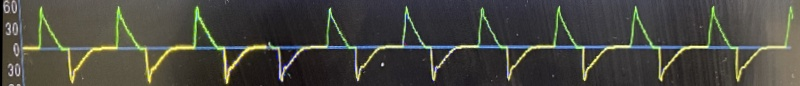normal_flow: (20, 0, 773, 86)
